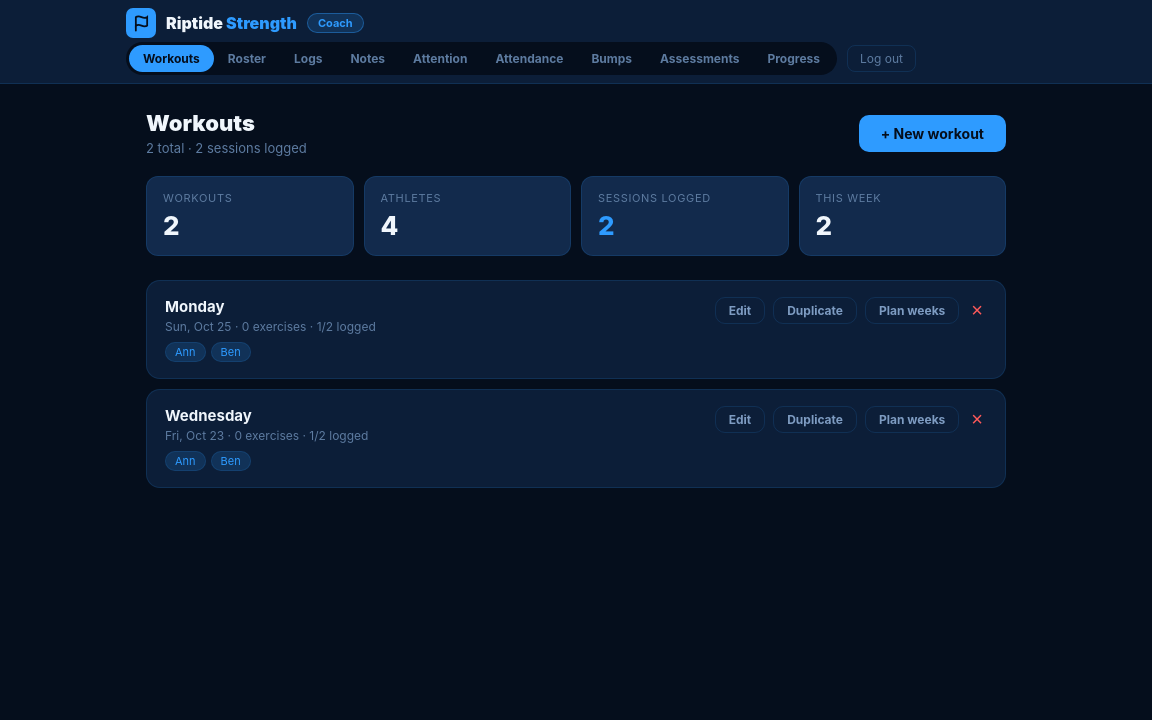
Scenario: needs attention tab › lists only the athlete who missed assigned sessions
Click the button "attention". click: (440, 58)
box: [399,45,481,72]
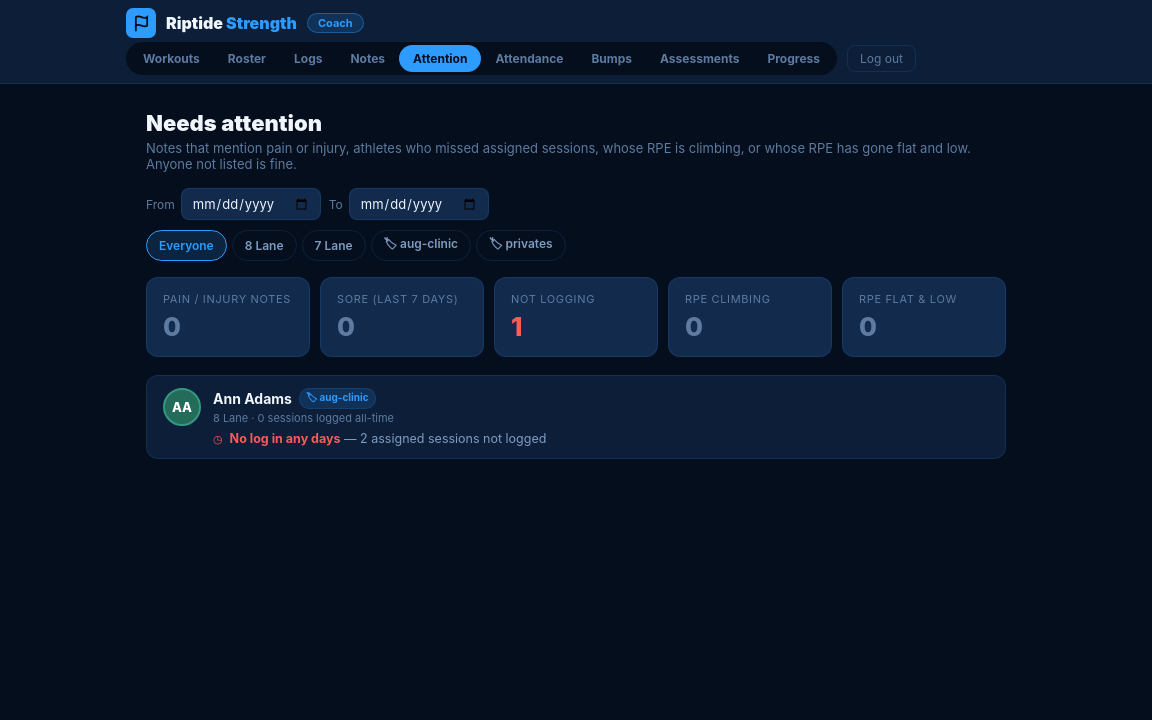
Check: the text "Ann Adams" is shown, box [213,390,292,407]
Check: the text "— 2 assigned sessions not logged" is shown, box [341,431,546,446]
